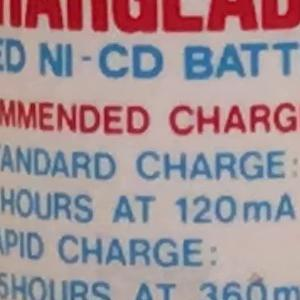keyword: (29, 35, 173, 87)
